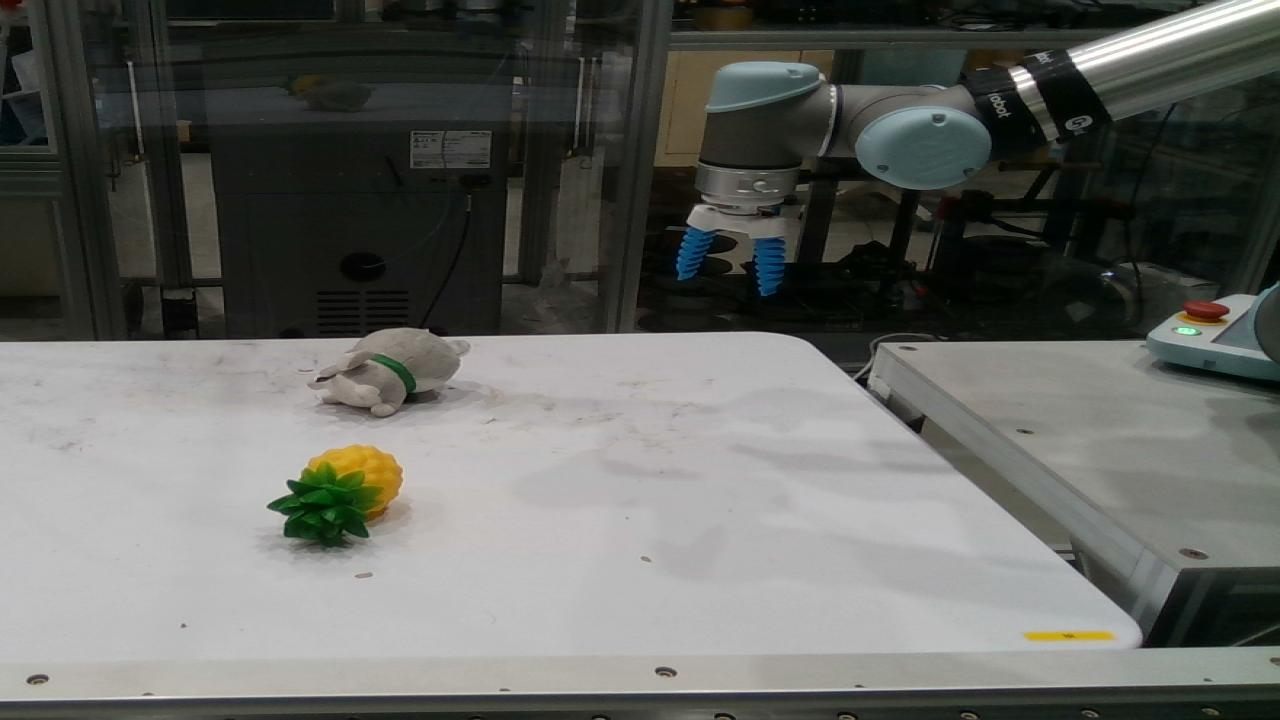UR5: (685, 0, 1279, 238), (1244, 281, 1279, 363)
gripper_left: (678, 228, 715, 279)
gripper_right: (753, 236, 785, 295)
target: (307, 328, 471, 417), (265, 444, 405, 547)
